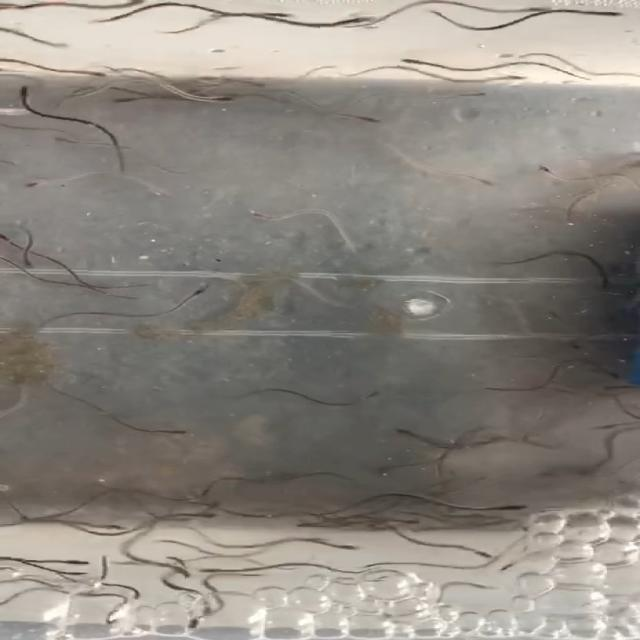active_glass_eel: (336, 108, 394, 125), (579, 278, 630, 296), (357, 380, 392, 402), (104, 91, 151, 107), (163, 562, 197, 584), (461, 176, 513, 190), (0, 503, 36, 523), (565, 328, 596, 351), (44, 562, 88, 578), (159, 424, 192, 444), (16, 175, 56, 191), (186, 507, 226, 523), (52, 558, 104, 570), (461, 546, 509, 559), (180, 618, 214, 636), (193, 86, 230, 102), (335, 12, 377, 26), (600, 362, 625, 385), (392, 424, 420, 444), (499, 498, 530, 516), (240, 209, 274, 225), (184, 280, 218, 296), (88, 519, 124, 534), (586, 5, 622, 20), (495, 554, 526, 571), (10, 82, 45, 97), (186, 605, 221, 620), (372, 461, 401, 479), (268, 7, 308, 20), (450, 90, 493, 102), (330, 539, 364, 554), (497, 69, 526, 85), (82, 64, 110, 80), (220, 270, 252, 284), (486, 51, 530, 61), (545, 304, 568, 323), (13, 255, 42, 270), (184, 483, 217, 496), (177, 76, 216, 87), (393, 54, 426, 66), (193, 568, 229, 578), (0, 230, 22, 246), (530, 162, 557, 174), (53, 134, 80, 145), (527, 6, 554, 17)
